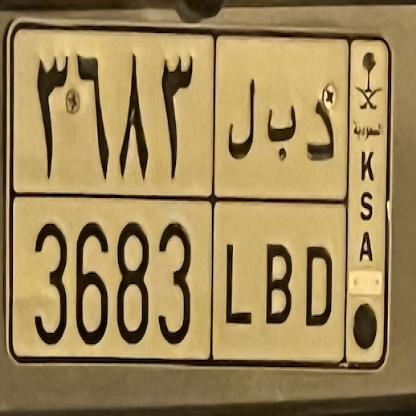english: (7, 182, 349, 365)
